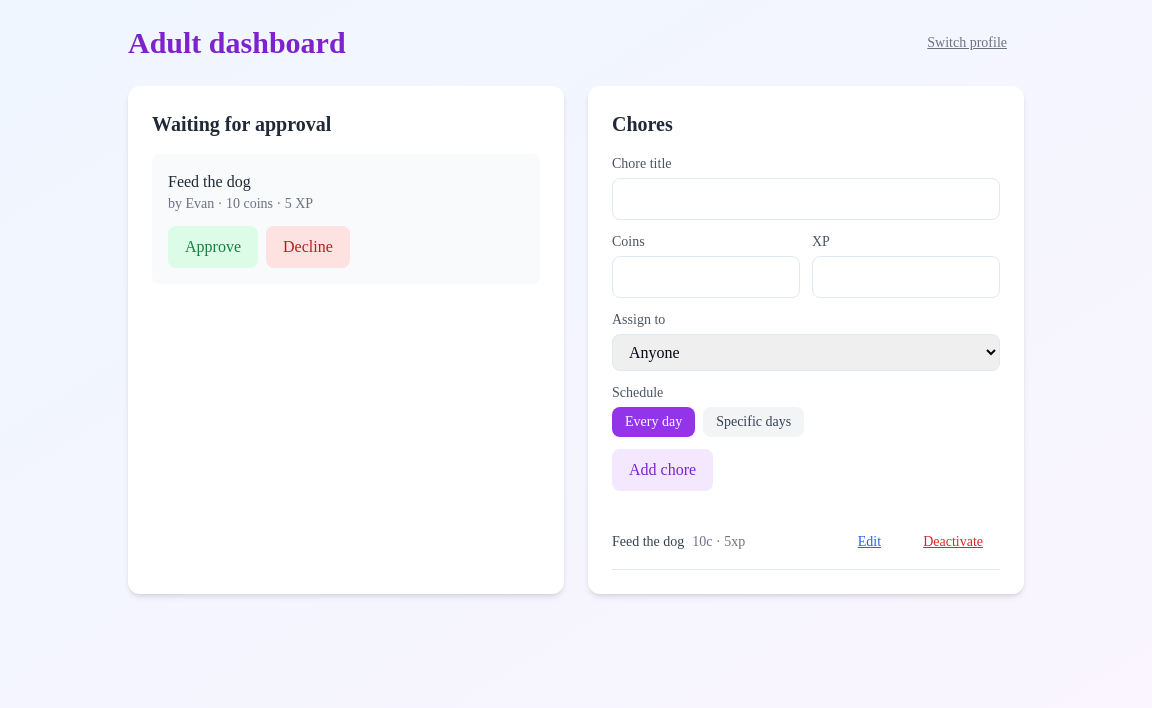
Test: AdultDashboard › editing a template shows the edit form pre-filled with its current values
This screenshot has width=1152, height=708.
Click the button "Edit" at (869, 542), box top-left (841, 523), bottom-right (898, 561)
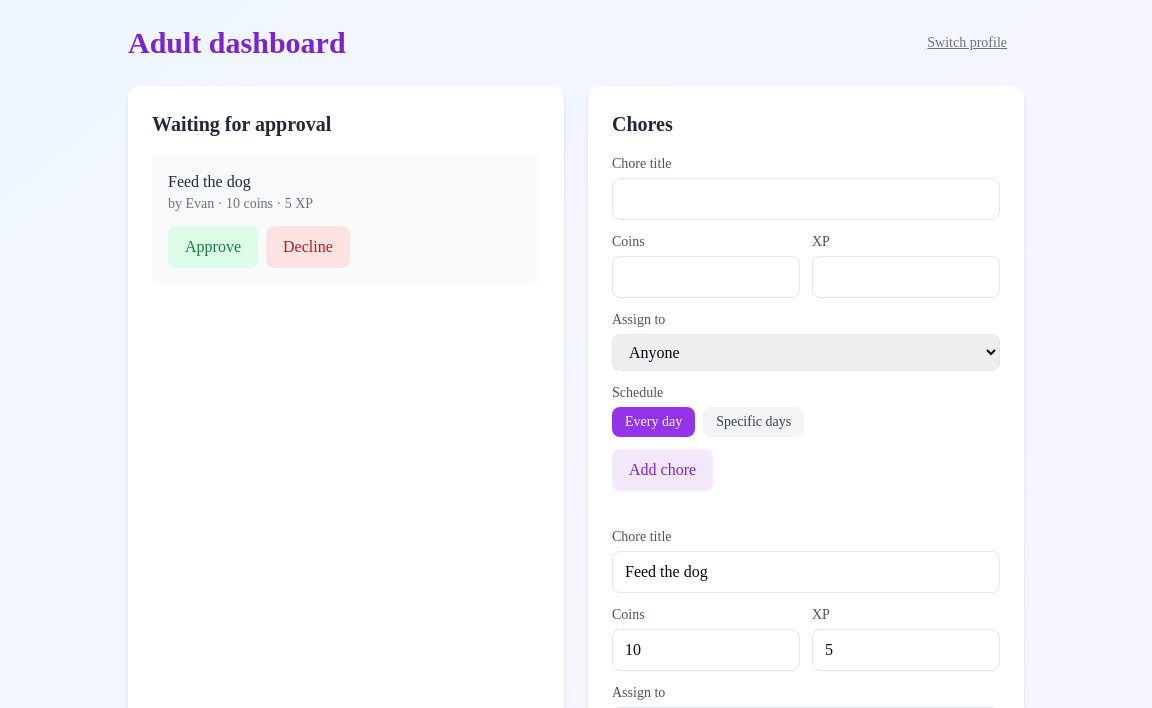
Check: the 2nd field labelled "Chore title" holds "Feed the dog", box top-left (612, 551), bottom-right (1000, 593)
Check: the 2nd number field labelled "Coins" holds "10", box top-left (612, 629), bottom-right (800, 671)
Check: the 2nd number field labelled "XP" holds "5", box top-left (812, 629), bottom-right (1000, 671)
